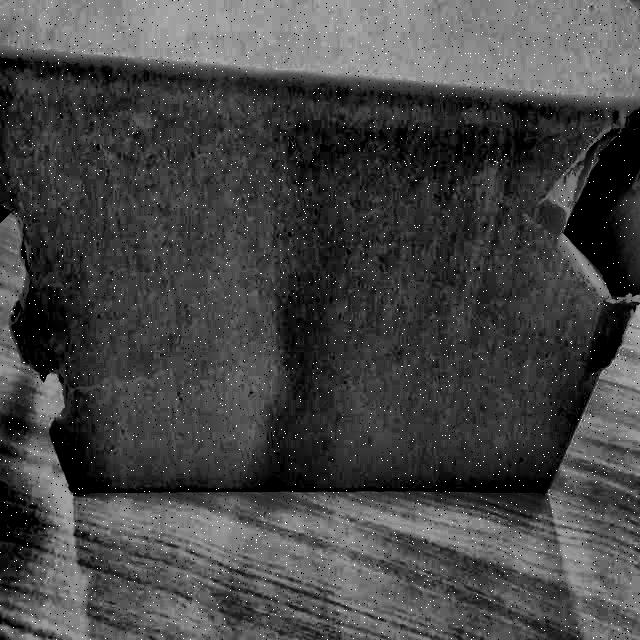box: (0, 0, 639, 506)
hole: (0, 199, 82, 506), (560, 97, 640, 305)
